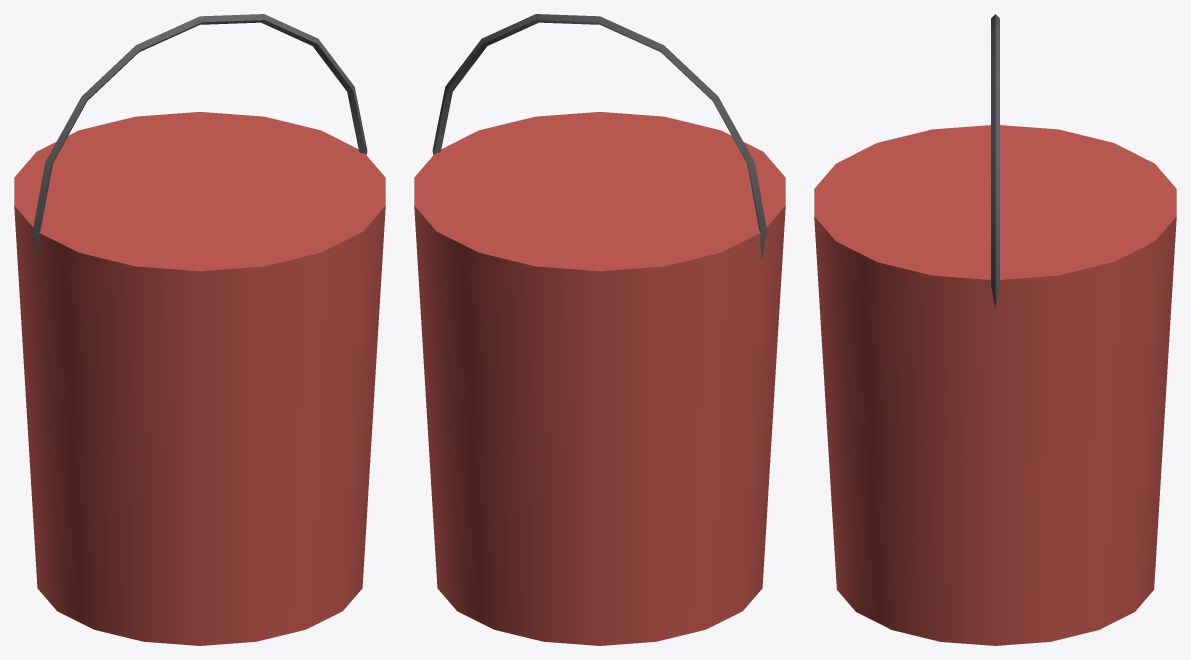
Rendered from paint_bucket_3.glb.
3 views of the same model, side by side, from view 1: azimuth 30°, elevation 25°; view 2: azimuth 150°, elevation 25°; view 3: azimuth 270°, elevation 25° (orthographic). The views are drawn at different scales.
Parts seen in each view (by area): view 1: Bucket.002, Bucket handle.002; view 2: Bucket.002, Bucket handle.002; view 3: Bucket.002, Bucket handle.002.
Part boxes in pixels (x1=…): Bucket.002: x1=14, y1=112, x2=385, y2=645; Bucket handle.002: x1=32, y1=14, x2=367, y2=260; Bucket.002: x1=414, y1=112, x2=785, y2=645; Bucket handle.002: x1=432, y1=14, x2=767, y2=260; Bucket.002: x1=814, y1=125, x2=1176, y2=645; Bucket handle.002: x1=991, y1=14, x2=999, y2=308.
Bounding box in the file's own units: 0.328 × 0.524 × 0.3151.
